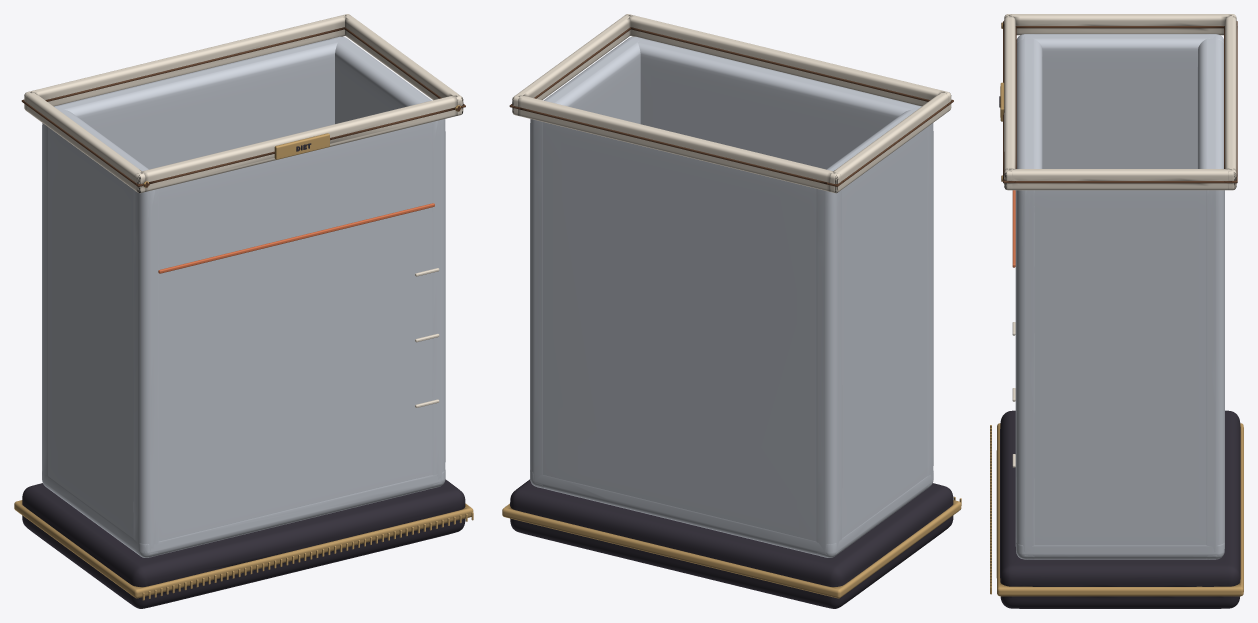
Rendered from jar.glb.
3 renders of one model, left to right at view 1: azimuth 30°, elevation 25°; view 2: azimuth 150°, elevation 25°; view 3: azimuth 270°, elevation 25°, orthographic.
Visible parts, largest first — view 1: wallFront, wallL, wallBack, plinth, wallR, collarB, collarF, floor, band, collarL, collarR, targetBar (+3 smaller); view 2: wallBack, wallL, wallFront, plinth, wallR, collarB, collarF, floor, band, collarL, collarR, collarBSeam (+1 smaller); view 3: wallR, wallL, plinth, wallFront, wallBack, collarR, collarL, band, floor, collarF, collarB, collarRSeam (+3 smaller).
Part boxes in pixels (<box>): wallFront: <box>133,119,445,557</box>; wallL: <box>42,105,159,557</box>; wallBack: <box>42,36,349,489</box>; plinth: <box>22,479,465,608</box>; wallR: <box>331,36,445,488</box>; collarB: <box>24,14,350,111</box>; collarF: <box>134,94,463,192</box>; floor: <box>42,470,445,557</box>; band: <box>14,500,473,598</box>; collarL: <box>24,91,145,193</box>; collarR: <box>344,14,463,115</box>; targetBar: <box>158,203,434,273</box>; wallBack: <box>530,119,842,557</box>; wallL: <box>816,105,933,557</box>; wallFront: <box>625,36,933,489</box>; plinth: <box>510,479,953,608</box>; wallR: <box>530,36,644,488</box>; collarB: <box>512,94,840,192</box>; collarF: <box>624,14,951,111</box>; floor: <box>530,470,933,557</box>; band: <box>502,500,961,598</box>; collarL: <box>830,91,948,193</box>; collarR: <box>512,14,631,115</box>; collarBSeam: <box>509,104,843,186</box>; wallR: <box>1015,190,1224,559</box>; wallL: <box>1016,34,1223,168</box>; plinth: <box>1000,410,1240,608</box>; wallFront: <box>1015,34,1042,559</box>; wallBack: <box>1197,34,1224,559</box>; collarR: <box>1004,169,1236,190</box>; collarL: <box>1004,14,1236,35</box>; band: <box>996,423,1243,596</box>; floor: <box>1015,539,1224,559</box>; collarF: <box>1004,14,1015,190</box>; collarB: <box>1225,14,1236,190</box>; collarRSeam: <box>1003,176,1237,183</box>.
Bounding box in the file's own units: 0.7494 × 0.9235 × 0.4839.
